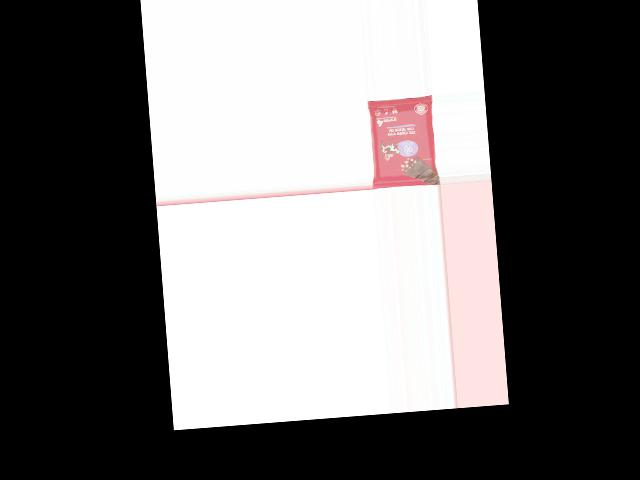chocolate: (366, 94, 437, 188)
